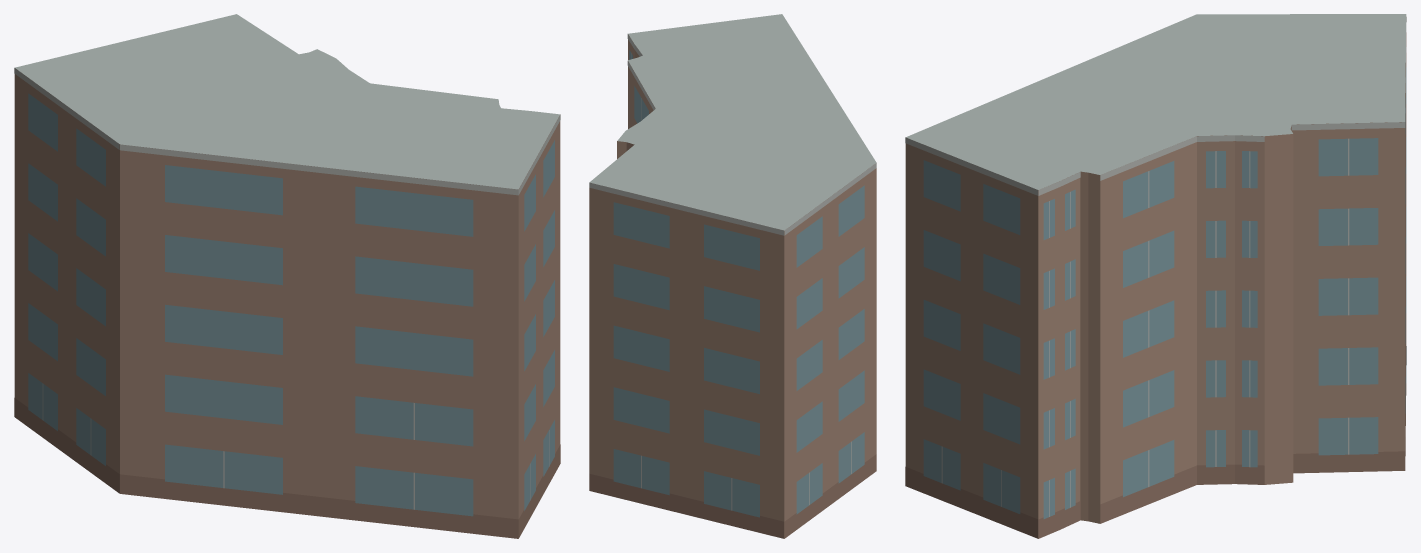
File: survey-upis-32942616.glb
The picture shows the model from 3 angles, left to right: view 1: azimuth 30°, elevation 25°; view 2: azimuth 150°, elevation 25°; view 3: azimuth 270°, elevation 25°; orthographic projection. The views are drawn at different scales.
Parts seen in each view (by area): view 1: survey-upis-32942616.tmp; view 2: survey-upis-32942616.tmp; view 3: survey-upis-32942616.tmp.
Part boxes in pixels (x1,y1,x2,y2): survey-upis-32942616.tmp: (14,14,560,538); survey-upis-32942616.tmp: (589,14,876,538); survey-upis-32942616.tmp: (905,14,1406,538).
Size of the model in its own units: 15.6 by 14.4 by 18.75.
